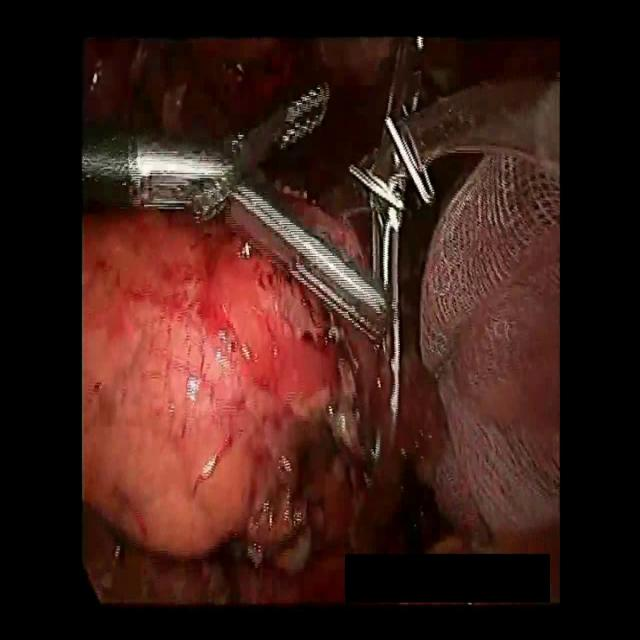surgical-area: (80, 29, 494, 601)
surgical-tool: (78, 77, 390, 348)
